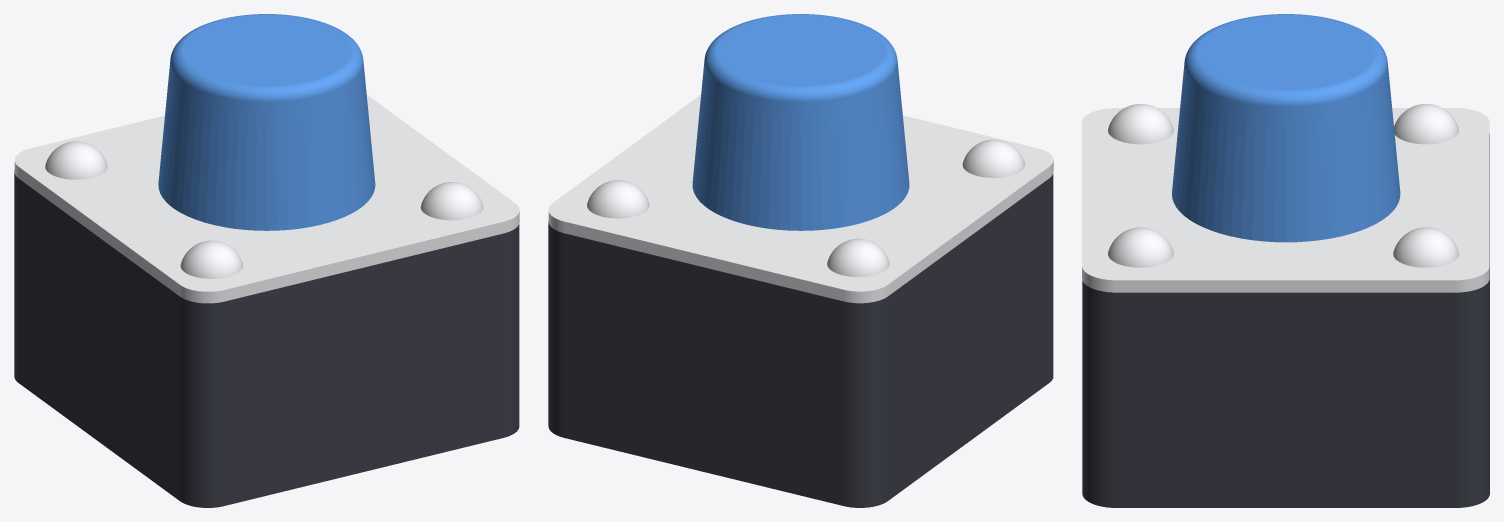
Rendered from pulsador.glb.
The picture shows the model from 3 angles, left to right: view 1: azimuth 30°, elevation 25°; view 2: azimuth 150°, elevation 25°; view 3: azimuth 270°, elevation 25°; orthographic projection. The views are drawn at different scales.
Parts seen in each view (by area): view 1: base, plate, button_plunger; view 2: base, plate, button_plunger; view 3: base, plate, button_plunger.
Part boxes in pixels (left/top/right/bottom): base: left=14, top=171, right=519, bottom=507; plate: left=14, top=95, right=519, bottom=303; button_plunger: left=158, top=14, right=375, bottom=230; base: left=548, top=174, right=1053, bottom=507; plate: left=548, top=95, right=1053, bottom=303; button_plunger: left=692, top=14, right=909, bottom=230; base: left=1082, top=134, right=1489, bottom=507; plate: left=1082, top=104, right=1489, bottom=292; button_plunger: left=1172, top=14, right=1400, bottom=242.
Size of the model in its own units: 6 by 6 by 6.
